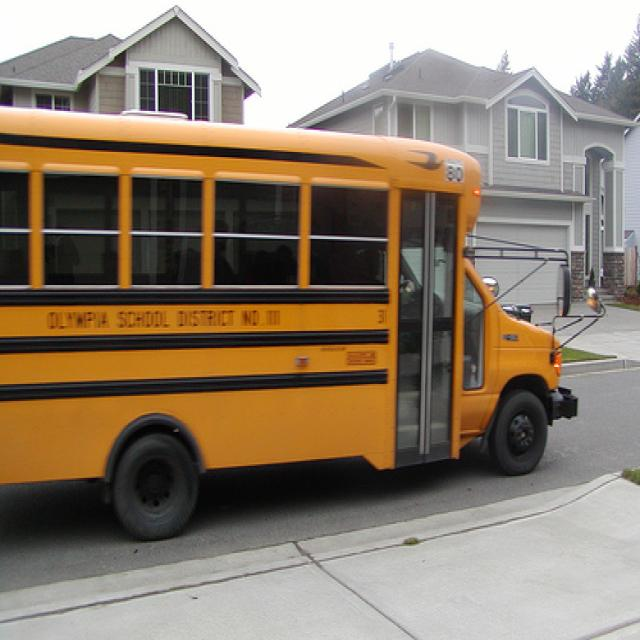bus: (1, 105, 580, 544)
